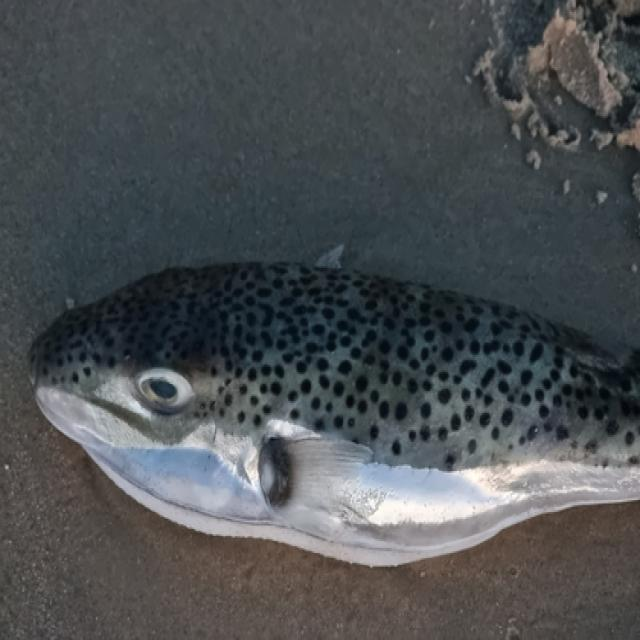Balik: (31, 265, 639, 564)
